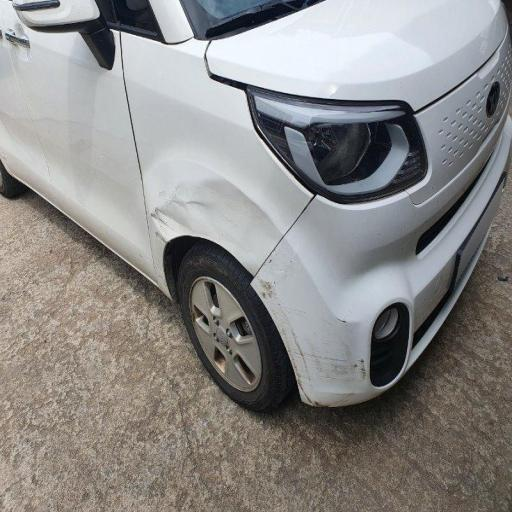dent: (146, 121, 298, 288)
scratch: (270, 294, 380, 412)
